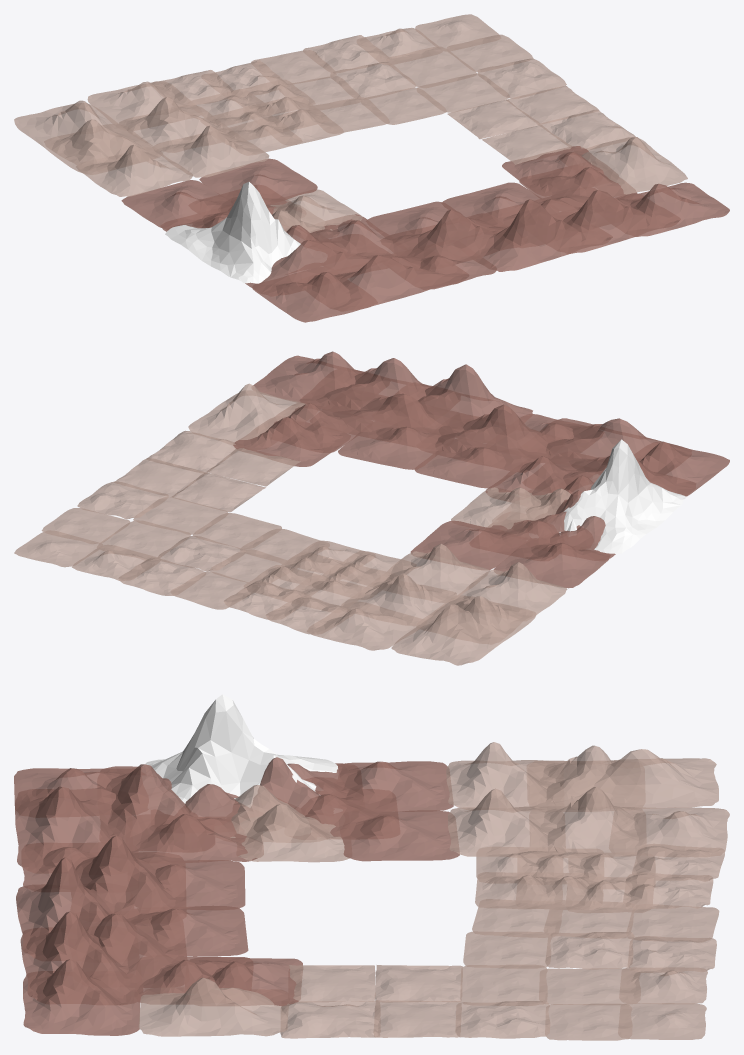
The model's file is grounds.gltf.
3 renders of one model, top to bottom at view 1: azimuth 30°, elevation 25°; view 2: azimuth 150°, elevation 25°; view 3: azimuth 270°, elevation 25°, orthographic. The views are drawn at different scales.
Parts seen in each view (by area): view 1: Ground_02 (15), Ground_02 (37), Ground_02 (23), Ground_02 (25), Ground_02 (16), Ground_02 (35), Ground_02 (21), Ground_02 (12), Ground_02 (24), Ground_02 (7), Ground_02 (22), Ground_02 (36) (+39 smaller); view 2: Ground_02 (15), Ground_02 (37), Ground_02 (24), Ground_02 (35), Ground_02 (16), Ground_02 (17), Ground_02 (21), Ground_02 (23), Ground_02 (7), Ground_02 (12), Ground_02 (14), Ground_02 (36) (+42 smaller); view 3: Ground_02 (37), Ground_02 (15), Ground_02 (16), Ground_02 (17), Ground_02 (12), Ground_02 (35), Ground_02 (25), Ground_02 (21), Ground_02 (7), Ground_02 (4), Ground_02 (24), Ground_02 (14) (+42 smaller).
Boxes of the visible parts, x1,y1,x2,y2 form: Ground_02 (15): [165, 182, 300, 283]; Ground_02 (37): [14, 100, 157, 174]; Ground_02 (23): [476, 199, 612, 271]; Ground_02 (25): [333, 255, 469, 311]; Ground_02 (16): [581, 136, 687, 194]; Ground_02 (35): [152, 125, 269, 177]; Ground_02 (21): [87, 81, 201, 130]; Ground_02 (12): [119, 96, 232, 152]; Ground_02 (24): [385, 209, 506, 261]; Ground_02 (7): [76, 145, 192, 196]; Ground_02 (22): [563, 190, 679, 253]; Ground_02 (36): [44, 119, 162, 171]; Ground_02 (15): [559, 439, 686, 553]; Ground_02 (37): [391, 597, 535, 665]; Ground_02 (24): [435, 404, 548, 471]; Ground_02 (35): [372, 543, 489, 602]; Ground_02 (16): [188, 383, 306, 444]; Ground_02 (17): [252, 351, 363, 409]; Ground_02 (21): [306, 602, 421, 650]; Ground_02 (23): [418, 364, 532, 429]; Ground_02 (7): [450, 562, 567, 621]; Ground_02 (12): [341, 574, 456, 626]; Ground_02 (14): [494, 543, 609, 588]; Ground_02 (36): [416, 595, 532, 643]; Ground_02 (37): [527, 749, 718, 808]; Ground_02 (15): [145, 694, 337, 807]; Ground_02 (16): [138, 977, 288, 1036]; Ground_02 (17): [23, 959, 139, 1035]; Ground_02 (12): [529, 787, 645, 857]; Ground_02 (35): [448, 788, 565, 857]; Ground_02 (25): [15, 786, 116, 873]; Ground_02 (21): [609, 807, 729, 856]; Ground_02 (7): [446, 742, 557, 810]; Ground_02 (4): [342, 810, 459, 861]; Ground_02 (24): [75, 835, 185, 918]; Ground_02 (14): [339, 761, 453, 811].
Bounding box in the file's own units: 0.6809 × 0.1082 × 0.7321.
Materials: 4 (4 with a texture image).
